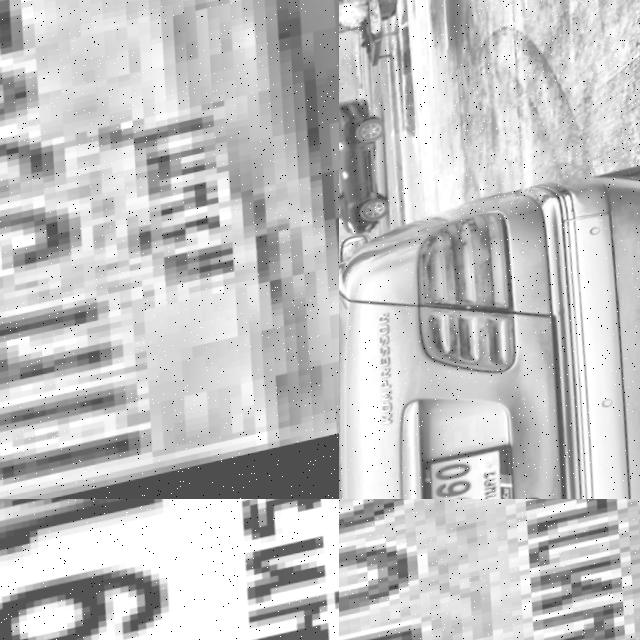license-plate: (0, 0, 339, 499), (0, 499, 339, 640), (339, 499, 640, 640), (417, 449, 534, 499)
